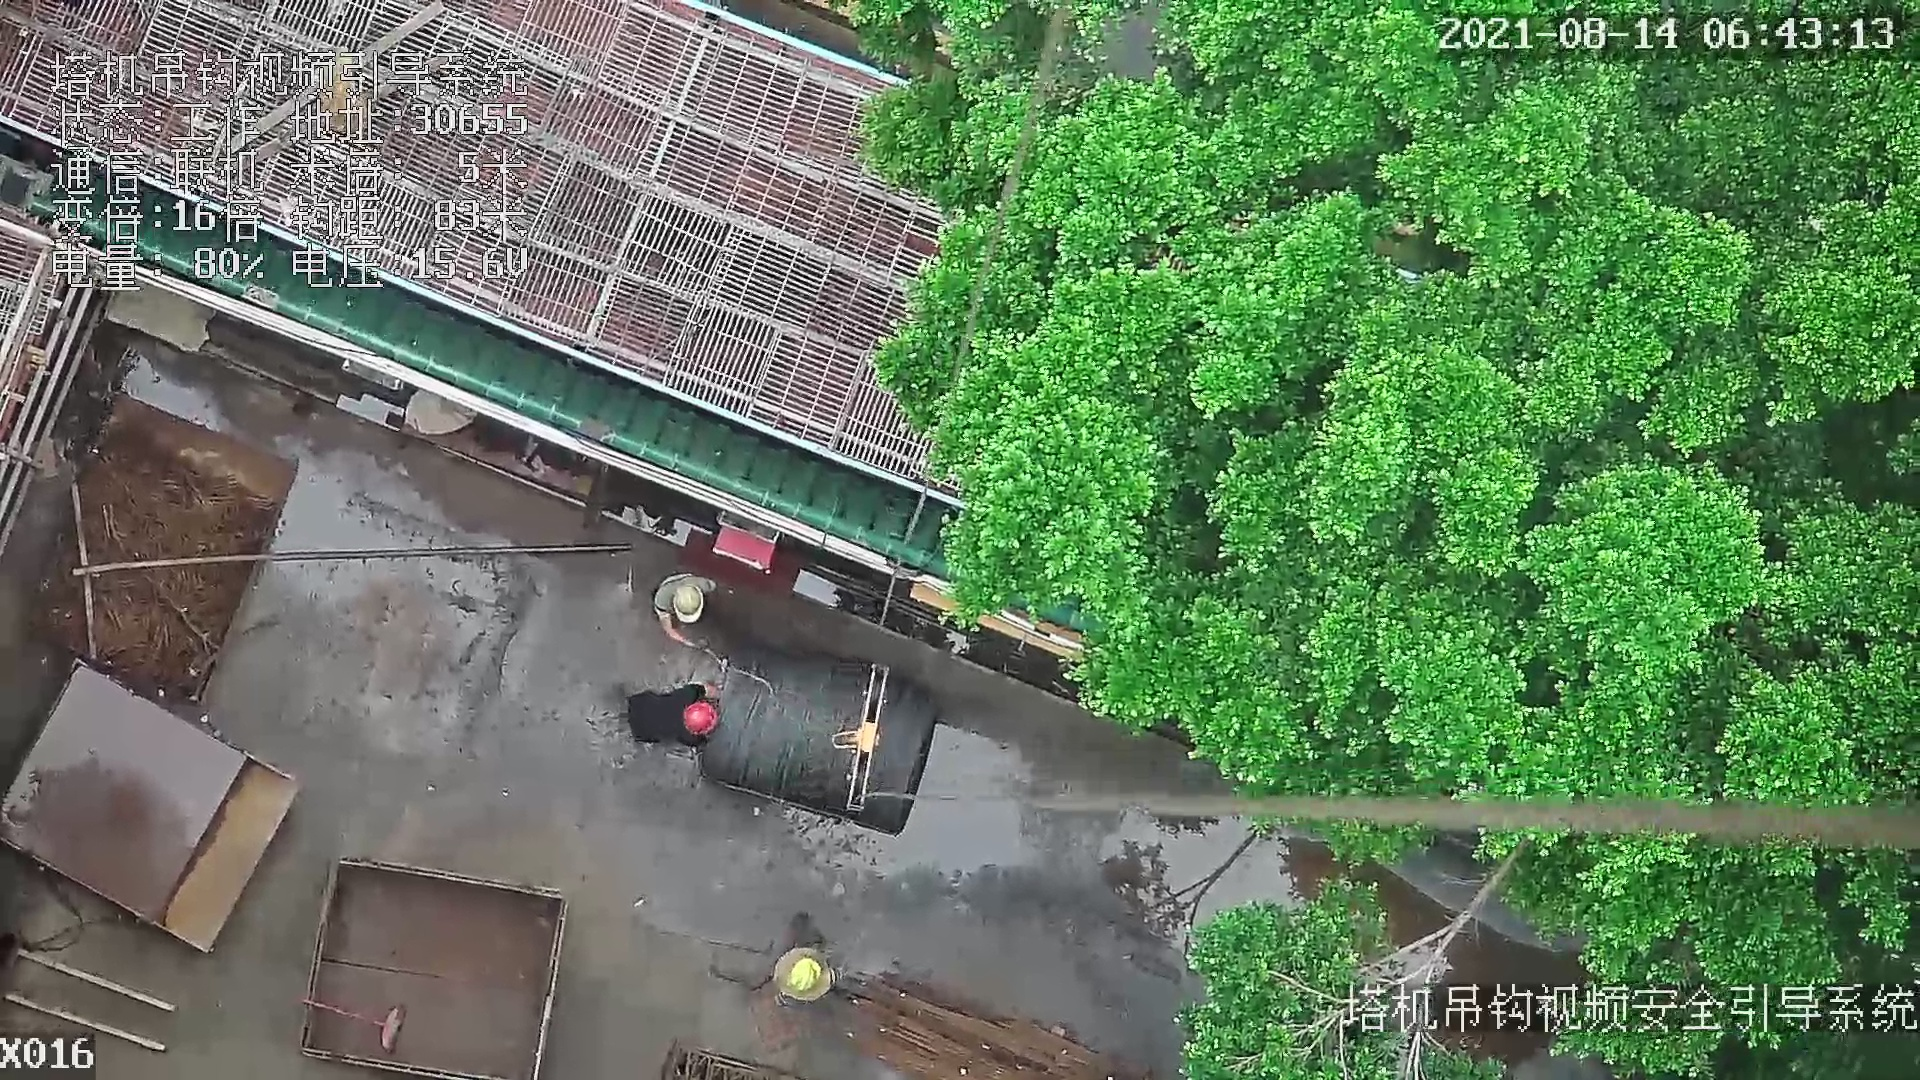helmet: (682, 697, 718, 739), (786, 960, 821, 997), (670, 585, 700, 622)
hook: (829, 656, 890, 810)
person: (617, 681, 729, 755), (650, 564, 728, 659), (774, 931, 844, 1010)
